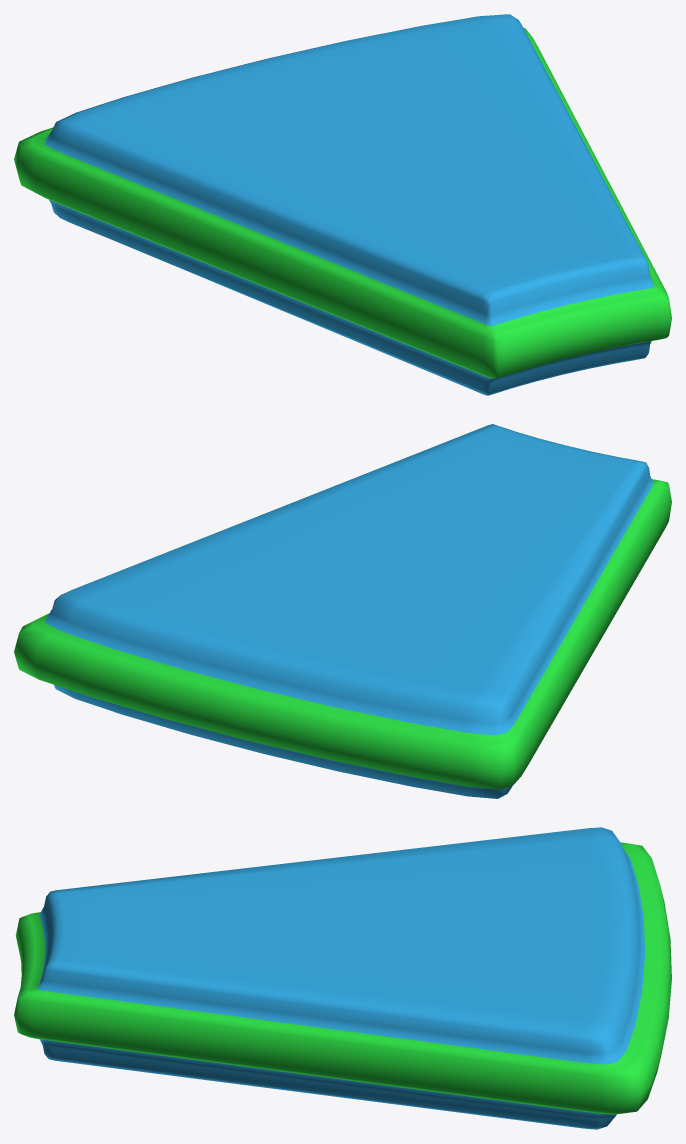
Rendered from LoadingPartCircleFbx.fbx.
3 views of the same model, one above another, from view 1: azimuth 30°, elevation 25°; view 2: azimuth 150°, elevation 25°; view 3: azimuth 270°, elevation 25° (orthographic). The views are drawn at different scales.
Parts seen in each view (by area): view 1: Cylinder; view 2: Cylinder; view 3: Cylinder.
Boxes of the visible parts, x1,y1,x2,y2 form: Cylinder: [14, 14, 671, 395]; Cylinder: [14, 424, 671, 798]; Cylinder: [14, 827, 671, 1129].
Size of the model in its own units: 62.89 by 11.98 by 73.6.
